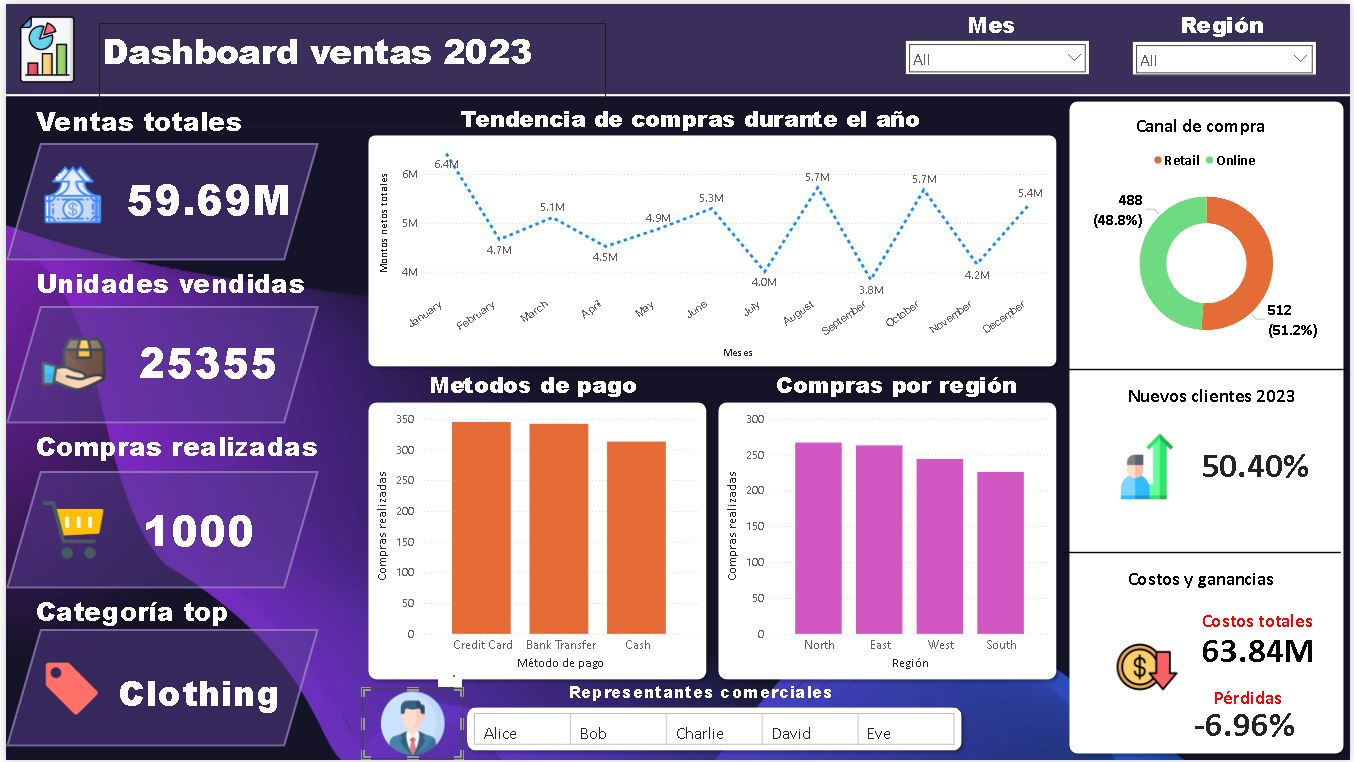

The page's visual inventory and layout, read from the dashboard file:
{"tool":"powerbi","page":{"name":"Page 1","canvas":[1920,1080],"ordinal":0},"visuals":[{"type":"shape","box":[0,0,1920,130],"z":0},{"type":"slicer","fields":{"Values":["sales_data.Region"]},"box":[1608.8,52.7,263.6,49.3],"z":1000},{"type":"textbox","box":[1672,2,168,64],"z":2000},{"type":"shape","box":[0,124,1920,12],"z":3000},{"type":"image","box":[0,0,118.3,130],"z":4000},{"type":"textbox","box":[133.3,26.7,723.3,150],"z":5000},{"type":"slicer","fields":{"Values":["sales_data.NombreMes"]},"box":[1284,52,264,50],"z":6000},{"type":"textbox","box":[1367.1,1.4,115.7,65.7],"z":7000},{"type":"shape","box":[0,198.3,446.7,168.3],"z":8000},{"type":"cardVisual","fields":{"Data":["Sum(sales_data.VentasNetas)"]},"box":[132.9,210,315.7,124.3],"z":9000},{"type":"image","box":[20,227.1,150,91.4],"z":10000},{"type":"textbox","box":[36.7,135,428.3,75],"z":11000},{"type":"shape","box":[0,431.7,446.7,168.3],"z":12000},{"type":"cardVisual","fields":{"Data":["sales_data.TotalQuantity"]},"box":[131.4,442.9,315.7,122.9],"z":13000},{"type":"textbox","box":[36.7,366.7,416.7,75],"z":14000},{"type":"shape","box":[0,666.7,446.7,168.3],"z":15000},{"type":"image","box":[22.9,464.3,147.1,101.4],"z":16000},{"type":"cardVisual","fields":{"Data":["CountNonNull(sales_data.Product_ID)"]},"box":[118.6,682.9,315.7,122.9],"z":17000},{"type":"textbox","box":[36.7,600,445,75],"z":18000},{"type":"image","box":[26.7,703.3,136.7,96.7],"z":19000},{"type":"shape","box":[0,893.3,446.7,168.3],"z":20000},{"type":"cardVisual","fields":{"Data":["sales_data.Categoria top"]},"box":[105.7,921.4,341.4,111.4],"z":21000},{"type":"textbox","box":[36.7,835,445,75],"z":22000},{"type":"image","box":[50,930,88.3,95],"z":23000},{"type":"shape","box":[508.6,178.6,1001.4,348.6],"z":24000},{"type":"lineChart","fields":{"Category":["sales_data.Sale_Date.Variation.Date Hierarchy.Month","sales_data.Sale_Date.Variation.Date Hierarchy.Day"],"Y":["Sum(sales_data.VentasNetas)"]},"box":[525.7,194.3,972.9,317.1],"z":25000},{"type":"shape","box":[1510,130,410,950],"z":26000},{"type":"donutChart","fields":{"Category":["sales_data.Sales_Channel"],"Y":["CountNonNull(sales_data.Product_ID)"]},"box":[1522.9,198.6,384.3,307.1],"z":27000},{"type":"textbox","box":[644.3,135.7,705.7,74.3],"z":28000},{"type":"textbox","box":[1608.6,152.9,214.3,47.1],"z":29000},{"type":"cardVisual","fields":{"Data":["sales_data.Porcentaje_nuevos"]},"box":[1681.4,565.7,205.7,177.1],"z":30000},{"type":"image","box":[1567.1,608.6,125.7,104.3],"z":31000},{"type":"textbox","box":[1597.1,538.6,275.7,51.4],"z":32000},{"type":"cardVisual","fields":{"Data":["Sum(sales_data.CostoTotal)"]},"box":[1672.9,864.3,234.3,110],"z":33000},{"type":"cardVisual","fields":{"Data":["sales_data.Ganancia Total %"]},"box":[1651.4,977.1,235.7,85.7],"z":34000},{"type":"textbox","box":[1702.9,860,211.4,51.4],"z":35000},{"type":"textbox","box":[1720,970,127.1,50],"z":36000},{"type":"image","box":[1578.6,898.6,102.9,97.1],"z":37000},{"type":"shape","box":[1517.1,505.7,397.1,32.9],"z":38000},{"type":"textbox","box":[1597.1,800,255.7,54.3],"z":39000},{"type":"shape","box":[1510,767.1,397.1,32.9],"z":40000},{"type":"shape","box":[508.6,560,501.4,414.3],"z":41000},{"type":"clusteredColumnChart","fields":{"Category":["sales_data.Payment_Method"],"Y":["CountNonNull(sales_data.Product_ID)"]},"box":[522.9,575.7,474.3,381.4],"z":42000},{"type":"textbox","box":[598.6,515.7,347.1,74.3],"z":43000},{"type":"textbox","box":[798.6,960,450,50],"z":45000},{"type":"image","box":[508.6,977.1,144.3,101.4],"z":46000},{"type":"shape","box":[650,995.7,724.3,80],"z":47000},{"type":"advancedSlicerVisual","fields":{"Values":["sales_data.Sales_Rep"]},"box":[665.7,1010,692.9,51.4],"z":47001},{"type":"textbox","box":[1094.3,515.7,388.6,74.3],"z":47004},{"type":"shape","box":[1008.6,560,501.4,414.3],"z":47005},{"type":"clusteredColumnChart","fields":{"Category":["sales_data.Region"],"Y":["CountNonNull(sales_data.Product_ID)"]},"box":[1022.9,575.7,474.3,381.4],"z":47006}]}

Visuals, with their boxes in screenshot pixels (x1, y1, x2, y2), scaled from the page's 1920x1080 canvas onto the 1354x762 screenshot:
shape: pyautogui.locateOnScreen(0, 0, 1353, 92)
slicer - sales_data.Region: pyautogui.locateOnScreen(1135, 37, 1320, 72)
textbox: pyautogui.locateOnScreen(1179, 1, 1298, 47)
shape: pyautogui.locateOnScreen(0, 87, 1353, 96)
image: pyautogui.locateOnScreen(0, 0, 83, 92)
textbox: pyautogui.locateOnScreen(94, 19, 604, 125)
slicer - sales_data.NombreMes: pyautogui.locateOnScreen(905, 37, 1092, 72)
textbox: pyautogui.locateOnScreen(964, 1, 1046, 47)
shape: pyautogui.locateOnScreen(0, 140, 315, 259)
cardVisual - Sum(sales_data.VentasNetas): pyautogui.locateOnScreen(94, 148, 316, 236)
image: pyautogui.locateOnScreen(14, 160, 120, 225)
textbox: pyautogui.locateOnScreen(26, 95, 328, 148)
shape: pyautogui.locateOnScreen(0, 305, 315, 423)
cardVisual - sales_data.TotalQuantity: pyautogui.locateOnScreen(93, 312, 315, 399)
textbox: pyautogui.locateOnScreen(26, 259, 320, 312)
shape: pyautogui.locateOnScreen(0, 470, 315, 589)
image: pyautogui.locateOnScreen(16, 328, 120, 399)
cardVisual - CountNonNull(sales_data.Product_ID): pyautogui.locateOnScreen(84, 482, 306, 569)
textbox: pyautogui.locateOnScreen(26, 423, 340, 476)
image: pyautogui.locateOnScreen(19, 496, 115, 564)
shape: pyautogui.locateOnScreen(0, 630, 315, 749)
cardVisual - sales_data.Categoria top: pyautogui.locateOnScreen(75, 650, 315, 729)
textbox: pyautogui.locateOnScreen(26, 589, 340, 642)
image: pyautogui.locateOnScreen(35, 656, 98, 723)
shape: pyautogui.locateOnScreen(359, 126, 1065, 372)
lineChart - sales_data.Sale_Date.Variation.Date Hierarchy.Month x sales_data.Sale_Date.Variation.Date Hierarchy.Day: pyautogui.locateOnScreen(371, 137, 1057, 361)
shape: pyautogui.locateOnScreen(1065, 92, 1353, 761)
donutChart - sales_data.Sales_Channel x CountNonNull(sales_data.Product_ID): pyautogui.locateOnScreen(1074, 140, 1345, 357)
textbox: pyautogui.locateOnScreen(454, 96, 952, 148)
textbox: pyautogui.locateOnScreen(1134, 108, 1286, 141)
cardVisual - sales_data.Porcentaje_nuevos: pyautogui.locateOnScreen(1186, 399, 1331, 524)
image: pyautogui.locateOnScreen(1105, 429, 1194, 503)
textbox: pyautogui.locateOnScreen(1126, 380, 1321, 416)
cardVisual - Sum(sales_data.CostoTotal): pyautogui.locateOnScreen(1180, 610, 1345, 687)
cardVisual - sales_data.Ganancia Total %: pyautogui.locateOnScreen(1165, 689, 1331, 750)
textbox: pyautogui.locateOnScreen(1201, 607, 1350, 643)
textbox: pyautogui.locateOnScreen(1213, 684, 1303, 720)
image: pyautogui.locateOnScreen(1113, 634, 1186, 703)
shape: pyautogui.locateOnScreen(1070, 357, 1350, 380)
textbox: pyautogui.locateOnScreen(1126, 564, 1307, 603)
shape: pyautogui.locateOnScreen(1065, 541, 1345, 564)
shape: pyautogui.locateOnScreen(359, 395, 712, 687)
clusteredColumnChart - sales_data.Payment_Method x CountNonNull(sales_data.Product_ID): pyautogui.locateOnScreen(369, 406, 703, 675)
textbox: pyautogui.locateOnScreen(422, 364, 667, 416)
textbox: pyautogui.locateOnScreen(563, 677, 881, 713)
image: pyautogui.locateOnScreen(359, 689, 460, 761)
shape: pyautogui.locateOnScreen(458, 703, 969, 759)
advancedSlicerVisual - sales_data.Sales_Rep: pyautogui.locateOnScreen(469, 713, 958, 749)
textbox: pyautogui.locateOnScreen(772, 364, 1046, 416)
shape: pyautogui.locateOnScreen(711, 395, 1065, 687)
clusteredColumnChart - sales_data.Region x CountNonNull(sales_data.Product_ID): pyautogui.locateOnScreen(721, 406, 1056, 675)
